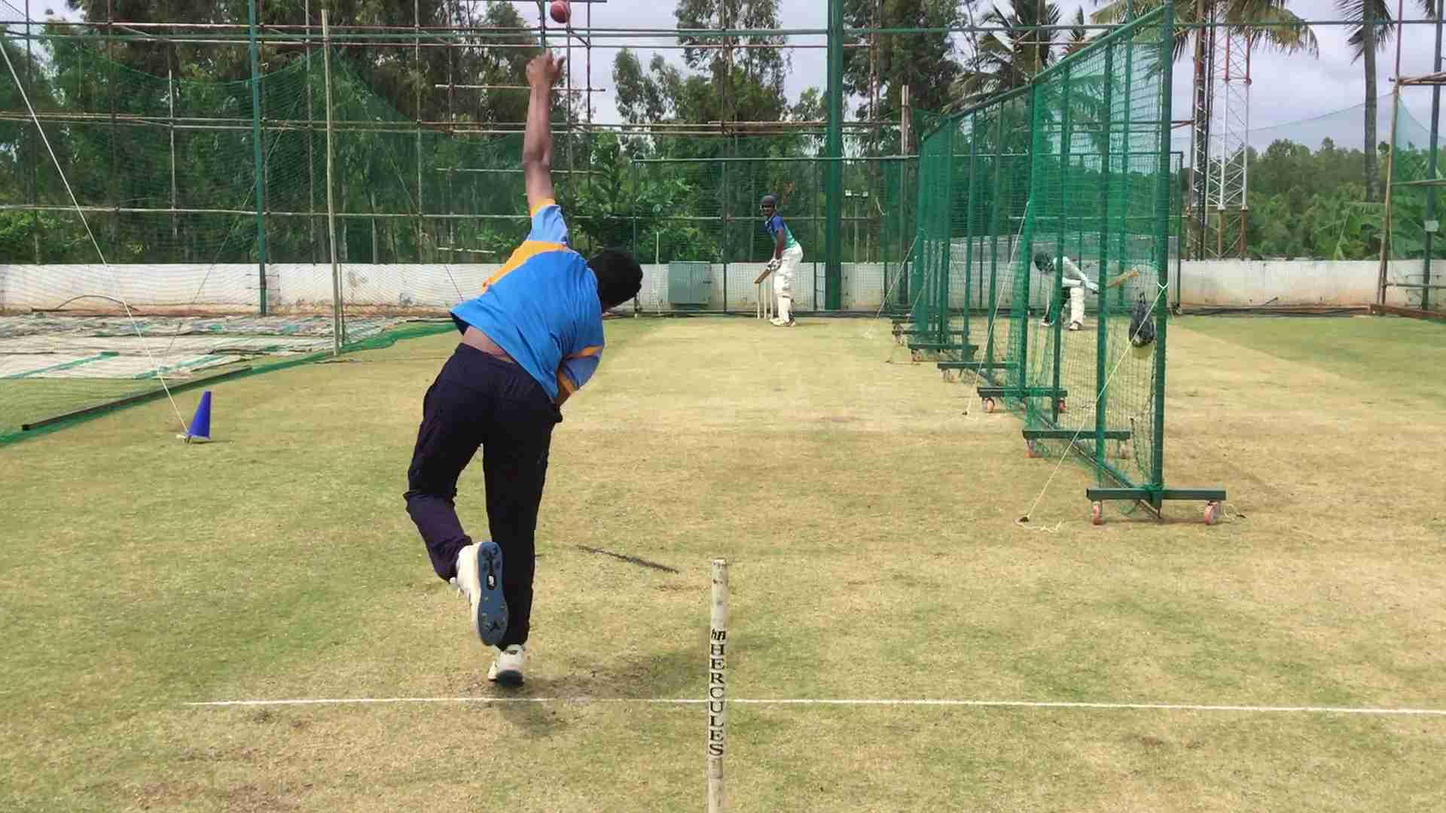batsman: (757, 189, 811, 331)
